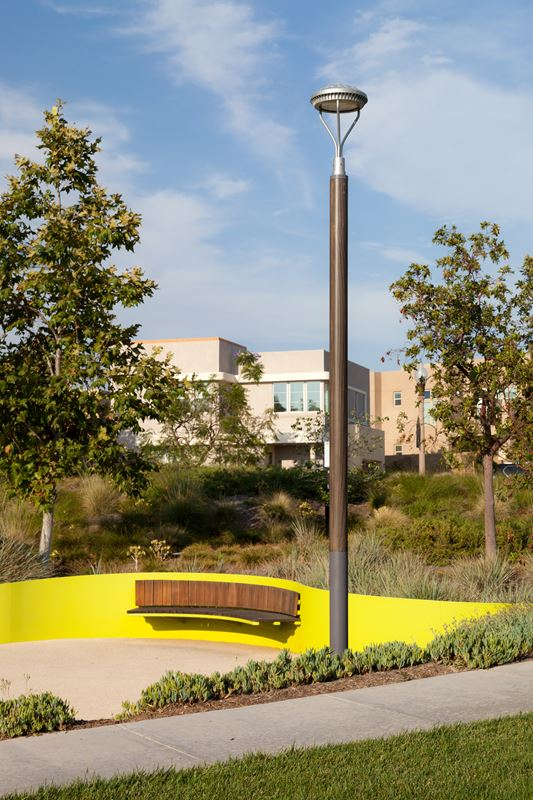light_pole: (316, 85, 365, 681)
